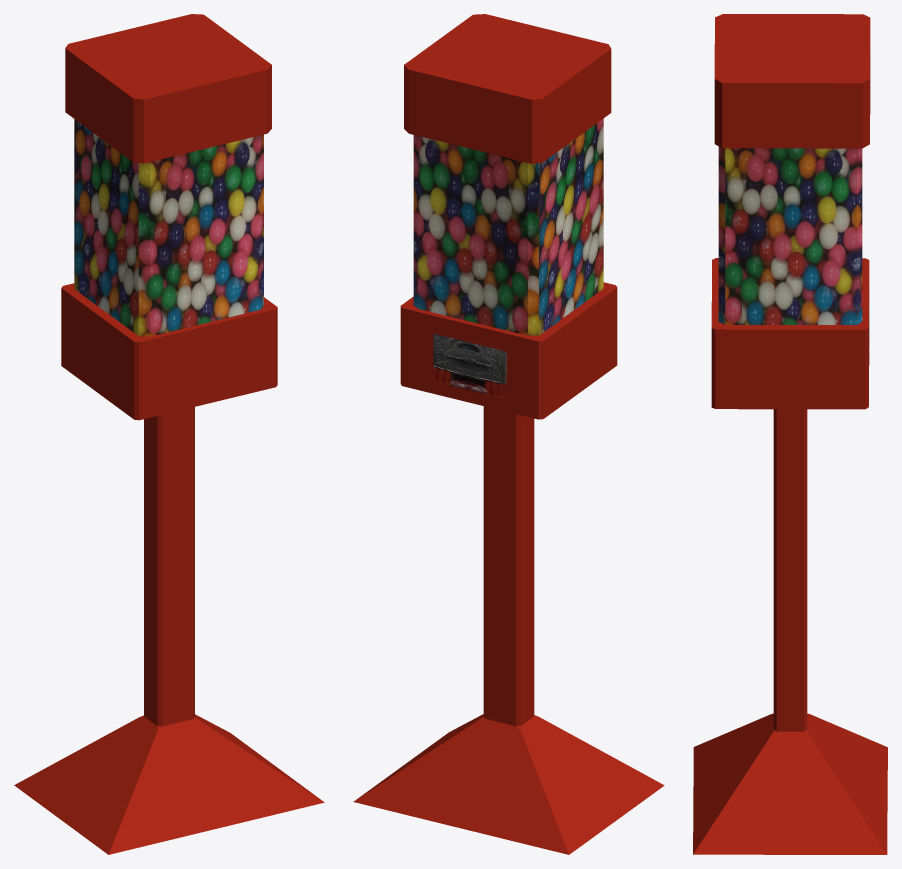
Rendered from low-poly-gumball-machine-n64-psx-style-2d7dba.glb.
The picture shows the model from 3 angles, left to right: view 1: azimuth 30°, elevation 25°; view 2: azimuth 150°, elevation 25°; view 3: azimuth 270°, elevation 25°; orthographic projection. The views are drawn at different scales.
Parts seen in each view (by area): view 1: PropMesh; view 2: PropMesh; view 3: PropMesh.
Boxes of the visible parts, x1,y1,x2,y2 form: PropMesh: [14, 14, 324, 854]; PropMesh: [353, 14, 664, 854]; PropMesh: [693, 14, 887, 854].
Bounding box in the file's own units: 0.4152 × 1.35 × 0.317.
2 materials, 2 textured.
